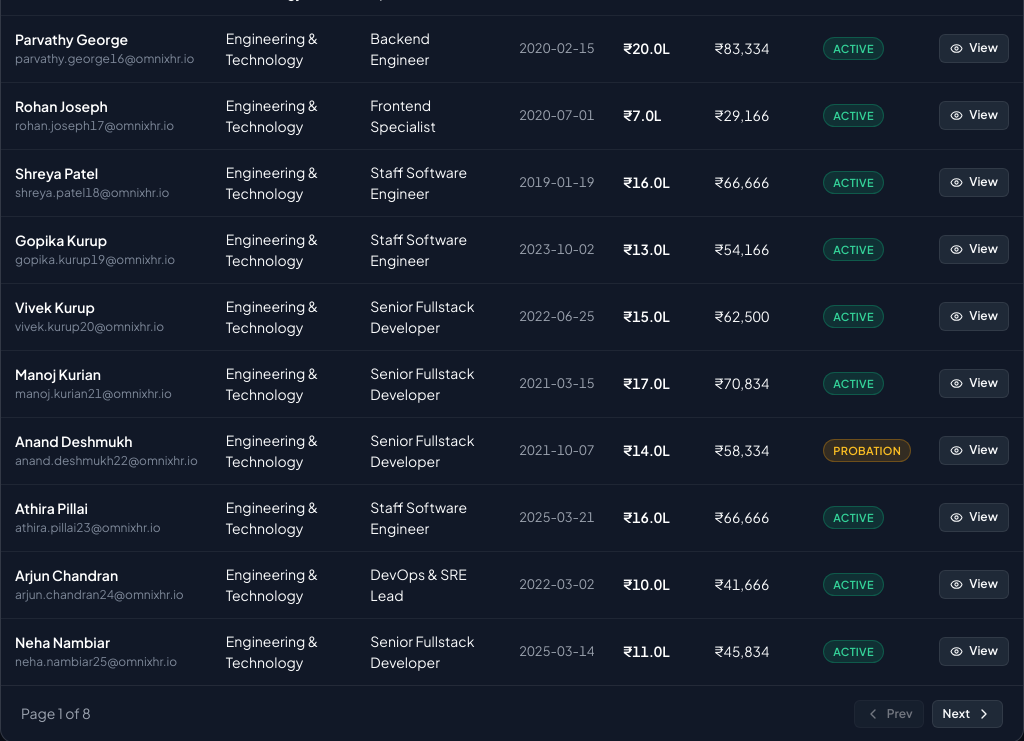
Test: DirectorySection table semantics › keeps the caption in step with the page being shown
The width and height of the screenshot is (1024, 741).
(page scrolled)
Click the button "Next".
click(967, 714)  # box [932,700,1003,728]
(page scrolled)
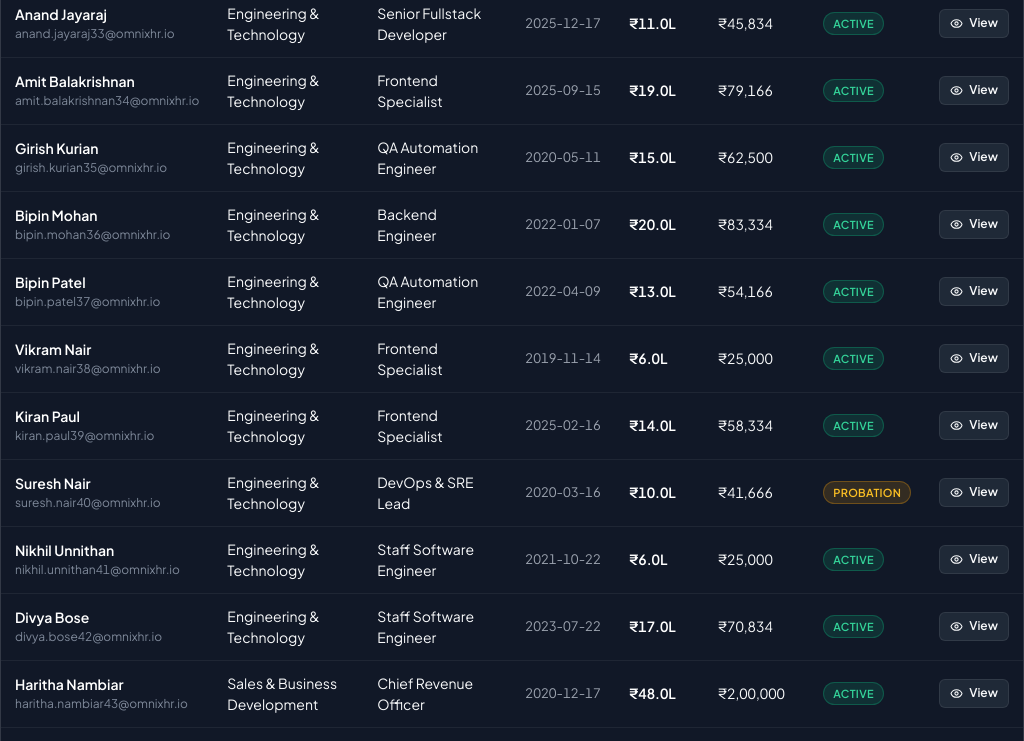
Check: the text "Page 1 of 8" is gone
